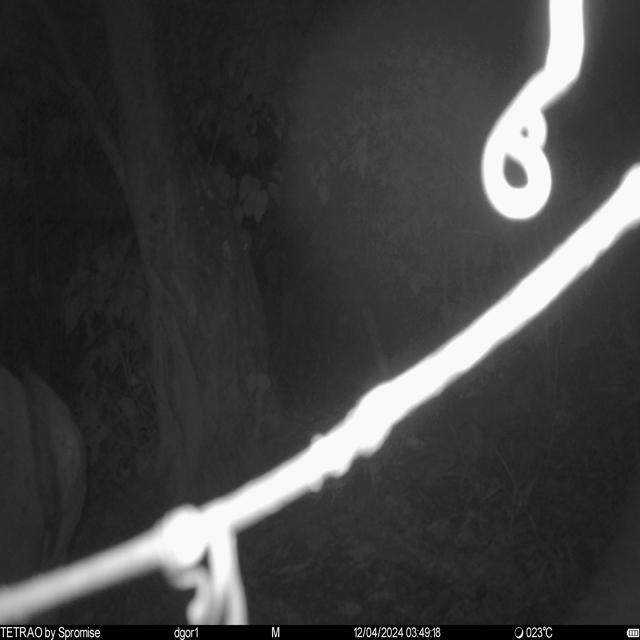calf: (0, 358, 90, 594)
ear: (20, 362, 66, 558)
